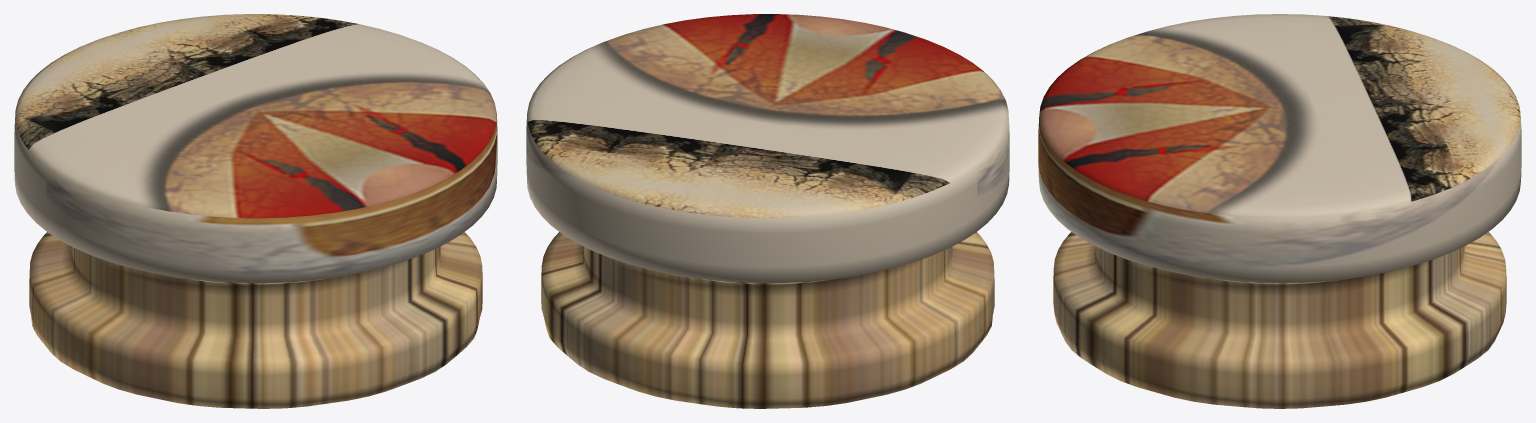
Rendered from kukuli2.gltf.
The picture shows the model from 3 angles, left to right: view 1: azimuth 30°, elevation 25°; view 2: azimuth 150°, elevation 25°; view 3: azimuth 270°, elevation 25°; orthographic projection.
Size of the model in its own units: 1.95 by 0.9199 by 1.95.
1 material, 1 textured.
